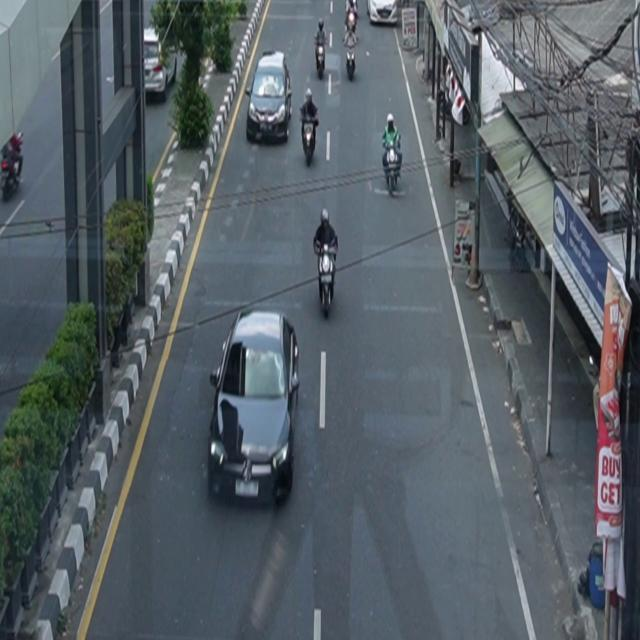car: (208, 307, 301, 507), (246, 50, 293, 145), (144, 31, 178, 102), (367, 1, 398, 26)
